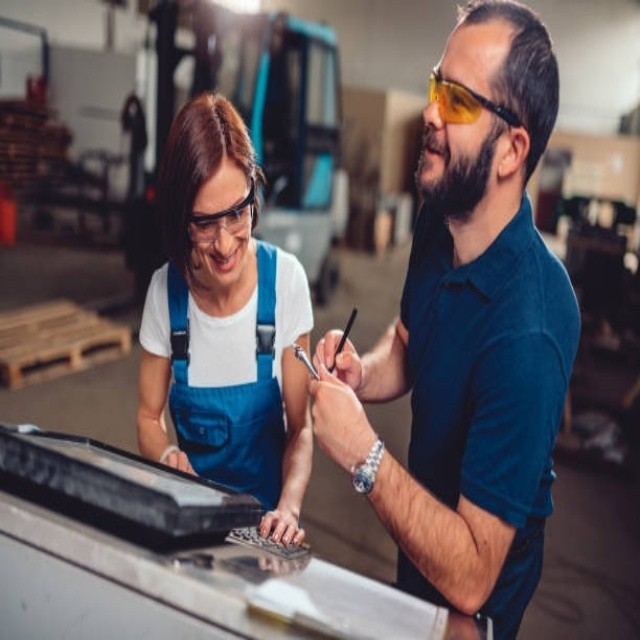Gafas: (429, 67, 524, 129), (186, 176, 256, 244)
Sin_guantes: (303, 363, 376, 476), (314, 318, 367, 389), (257, 503, 305, 548)
Sin_mascara: (415, 130, 457, 191), (202, 243, 246, 285)
